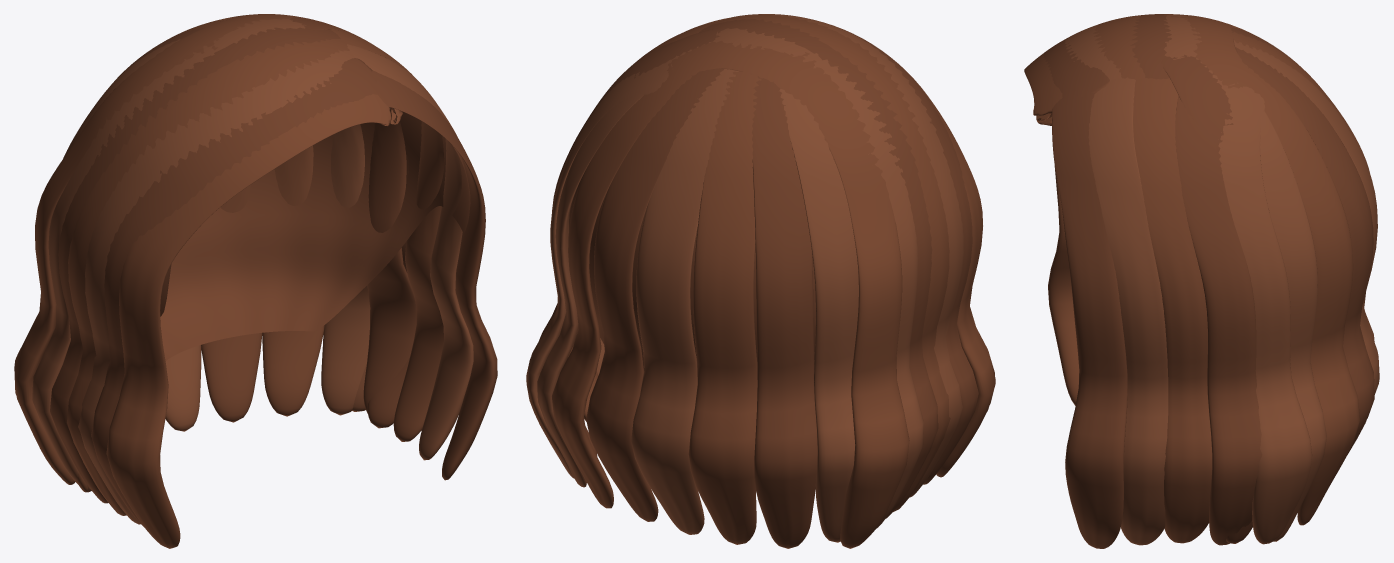
The model's file is straight-cap-default.glb.
The picture shows the model from 3 angles, left to right: view 1: azimuth 30°, elevation 25°; view 2: azimuth 150°, elevation 25°; view 3: azimuth 270°, elevation 25°; orthographic projection. The views are drawn at different scales.
Parts seen in each view (by area): view 1: 226 hair / Hair / sculpted 0.001, 226 hair / Hair / sculpted 1.002, 226 hair / Hair / sculpted 2.001, 226 hair / Hair / sculpted 1.001; view 2: 226 hair / Hair / sculpted 0.001, 226 hair / Hair / sculpted 2.001, 226 hair / Hair / sculpted 1.002, 226 hair / Hair / sculpted 1.001; view 3: 226 hair / Hair / sculpted 1.002, 226 hair / Hair / sculpted 2.001, 226 hair / Hair / sculpted 0.001.
Part boxes in pixels (x1,y1,x2,y2): 226 hair / Hair / sculpted 0.001: (14, 14, 444, 548); 226 hair / Hair / sculpted 1.002: (50, 14, 497, 526); 226 hair / Hair / sculpted 2.001: (32, 16, 473, 524); 226 hair / Hair / sculpted 1.001: (160, 112, 470, 360); 226 hair / Hair / sculpted 0.001: (552, 15, 995, 548); 226 hair / Hair / sculpted 2.001: (526, 14, 963, 542); 226 hair / Hair / sculpted 1.002: (539, 14, 978, 548); 226 hair / Hair / sculpted 1.001: (569, 175, 815, 370); 226 hair / Hair / sculpted 1.002: (1043, 14, 1374, 548); 226 hair / Hair / sculpted 2.001: (1065, 14, 1379, 545); 226 hair / Hair / sculpted 0.001: (1024, 14, 1374, 543).
Size of the model in its own units: 0.8562 by 0.9504 by 0.6819.
